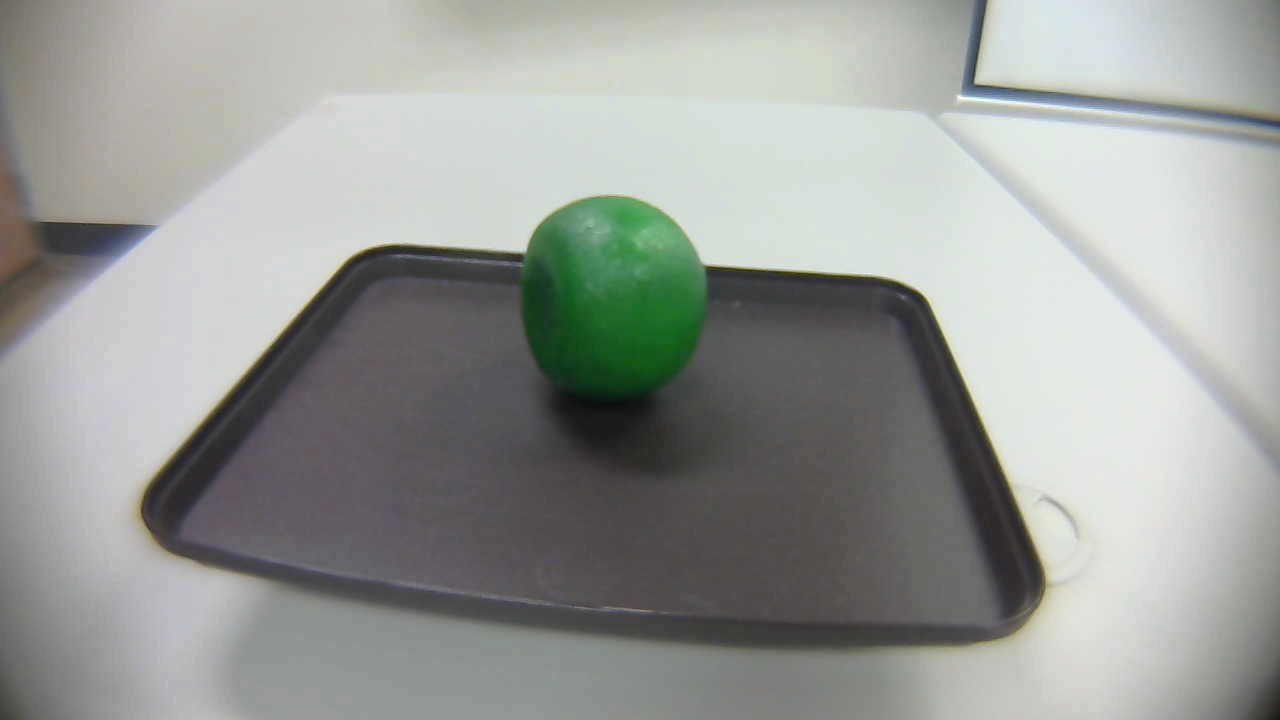green orange: (509, 193, 712, 413)
